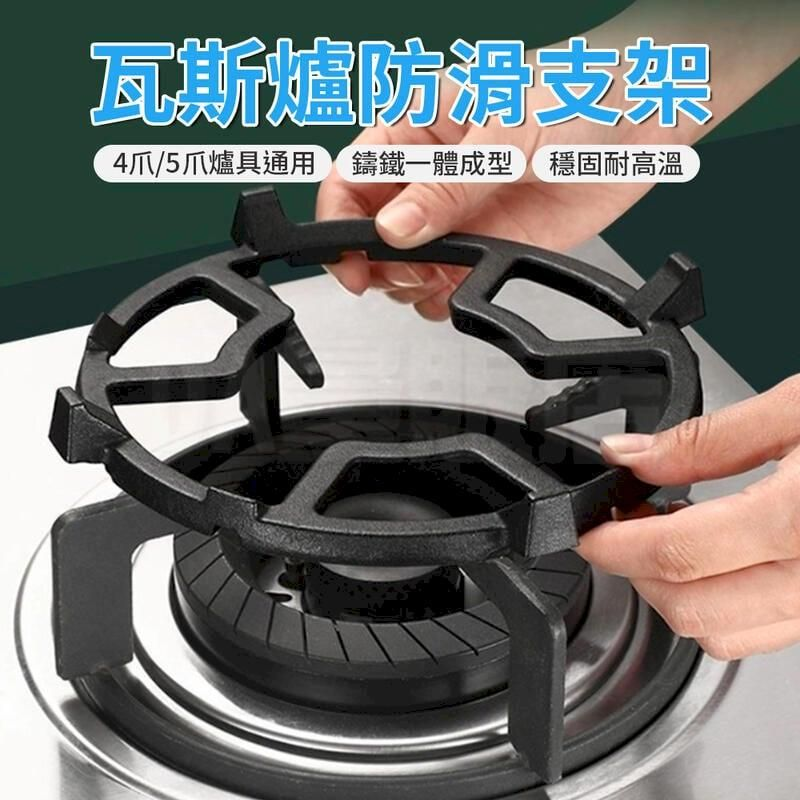gasoven: (10, 182, 745, 794)
